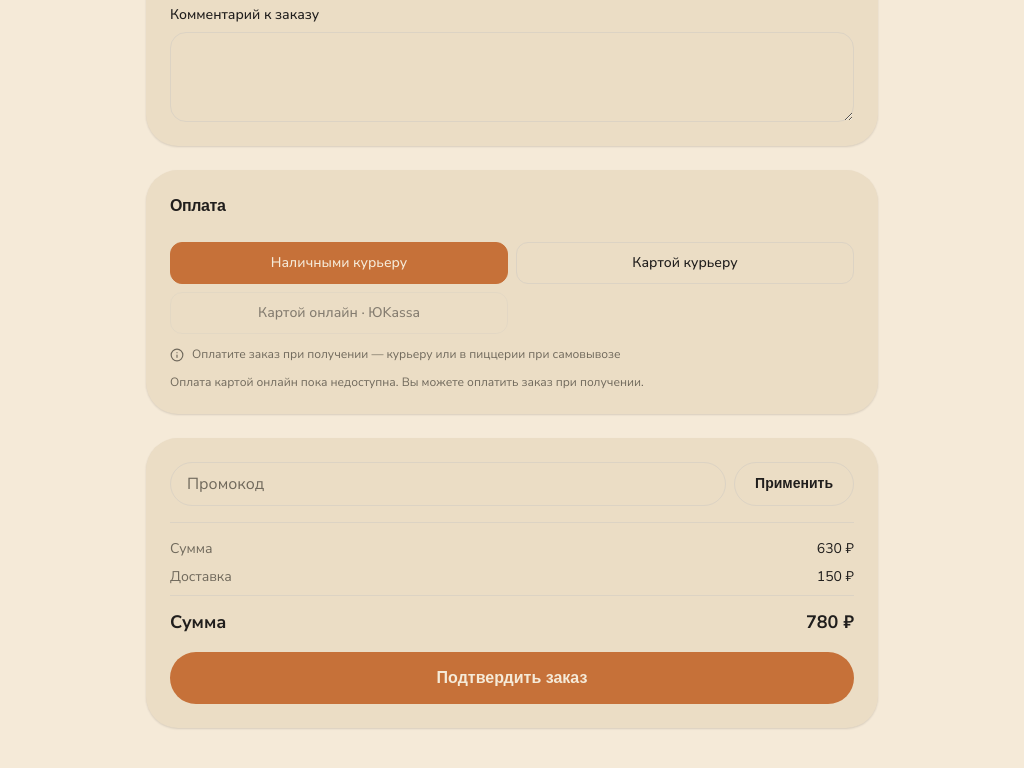
Test: CheckoutPage — discounts and totals › applies a valid promocode to the total
(page scrolled)
In the field labelled "Промокод": (448,484) [170,462,726,506], type "CHICAGO10"
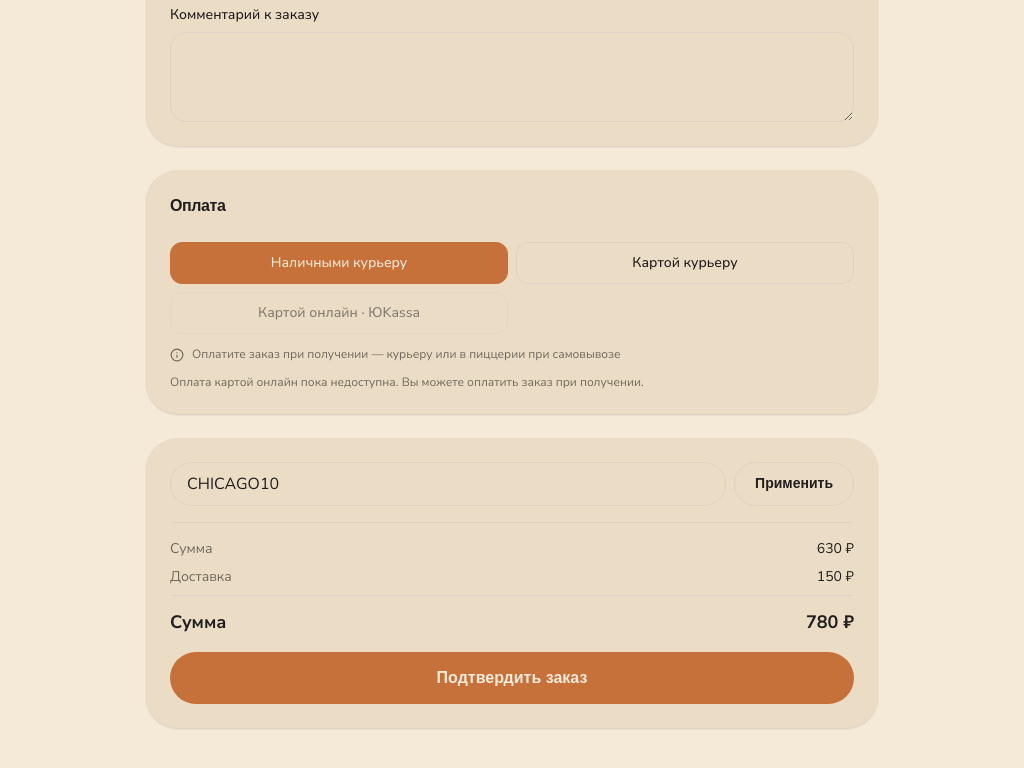
Click the button "Применить": (794,484) [734,462,854,506]
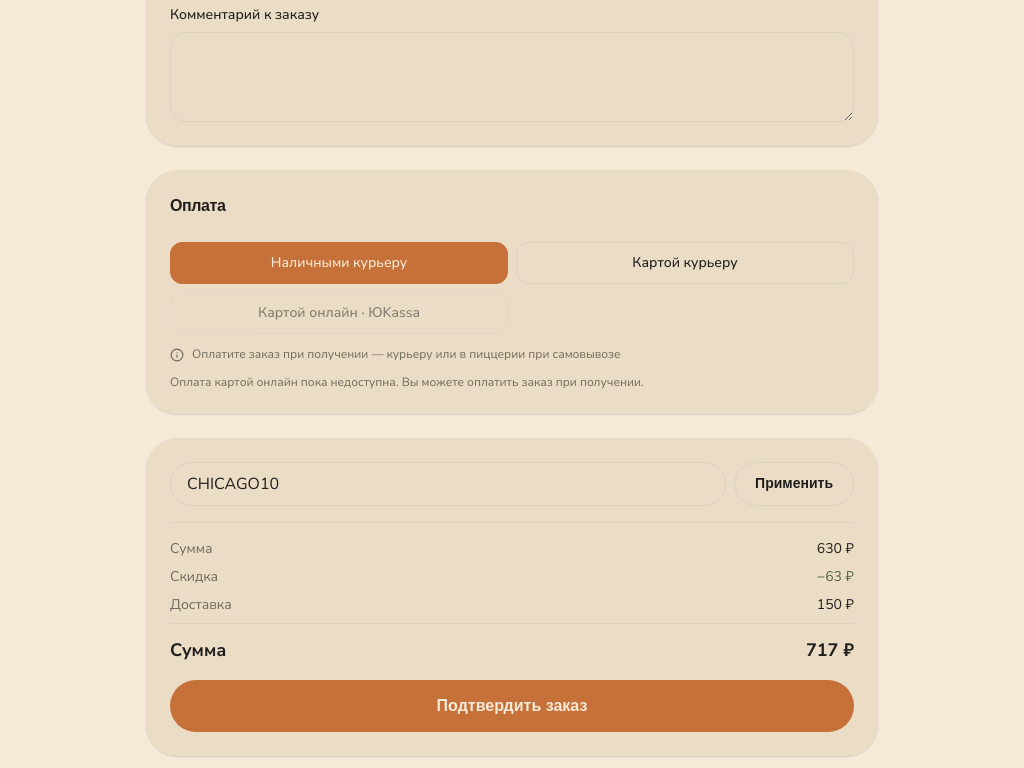
Expected: the text "717 ₽" is shown, [806,636,854,664]
